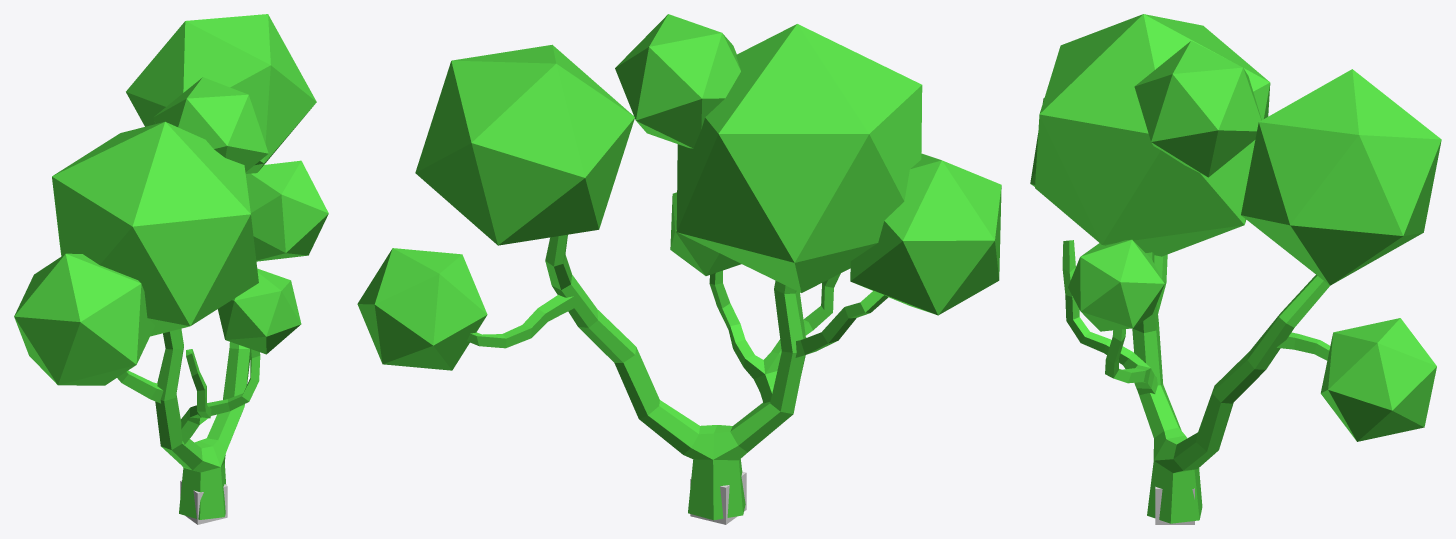
File: treenew.glb
The picture shows the model from 3 angles, left to right: view 1: azimuth 30°, elevation 25°; view 2: azimuth 150°, elevation 25°; view 3: azimuth 270°, elevation 25°; orthographic projection. The views are drawn at different scales.
Parts seen in each view (by area): view 1: Tree_lp_11, Cube; view 2: Tree_lp_11; view 3: Tree_lp_11.
Part boxes in pixels (x1,y1,x2,y2): Tree_lp_11: [14, 14, 328, 519]; Cube: [180, 480, 227, 524]; Tree_lp_11: [357, 14, 1001, 520]; Tree_lp_11: [1030, 14, 1441, 523].
Bounding box in the file's own units: 27.98 × 26.8 × 20.8.
